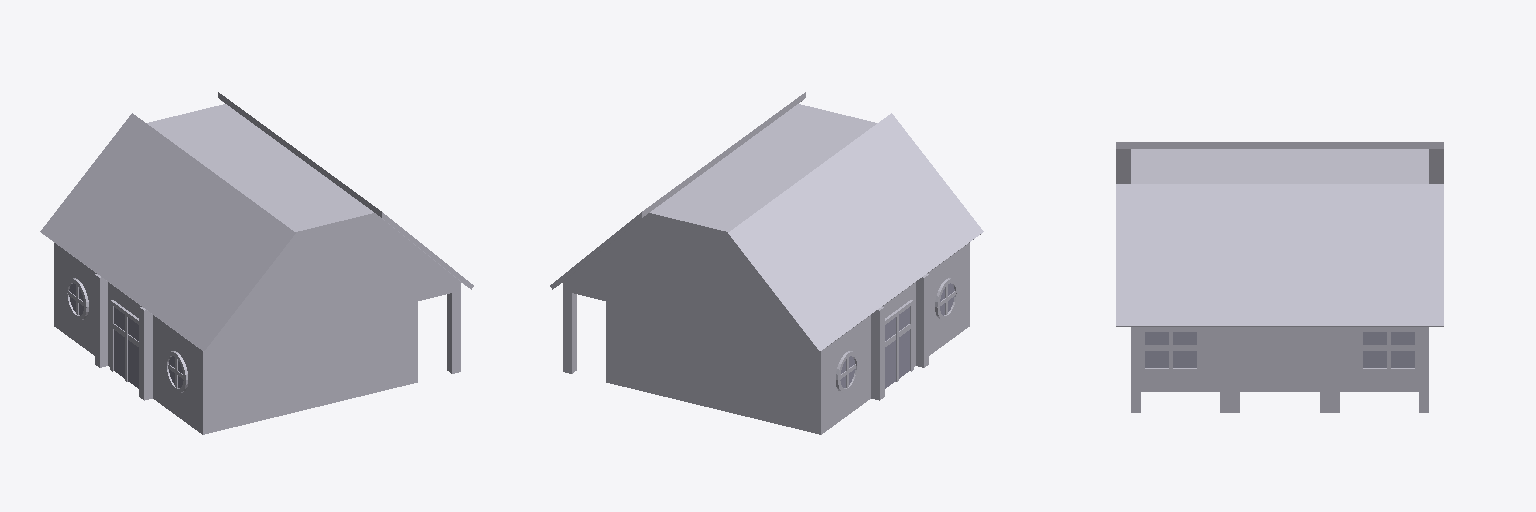
Rendered from building1.obj.
3 views of the same model, side by side, from view 1: azimuth 30°, elevation 25°; view 2: azimuth 150°, elevation 25°; view 3: azimuth 270°, elevation 25° (orthographic).
Size of the model in its own units: 3.17 by 2.07 by 3.3.